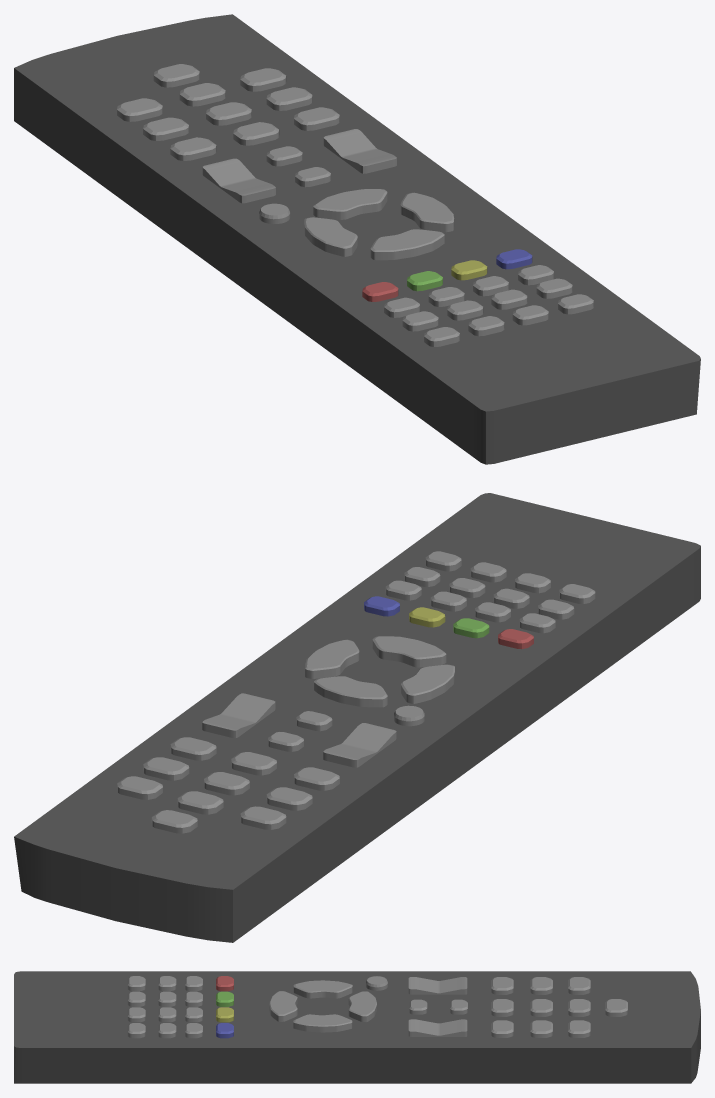
Rendered from TVRemote.fbx.
The picture shows the model from 3 angles, top to bottom: view 1: azimuth 30°, elevation 25°; view 2: azimuth 150°, elevation 25°; view 3: azimuth 270°, elevation 25°; orthographic projection. The views are drawn at different scales.
Parts seen in each view (by area): view 1: TVRemote; view 2: TVRemote; view 3: TVRemote.
Boxes of the visible parts, left/top/right/bottom form: TVRemote: left=14, top=14, right=700, bottom=464; TVRemote: left=14, top=493, right=700, bottom=942; TVRemote: left=14, top=971, right=700, bottom=1083.
Size of the model in its own units: 0.4142 by 0.1126 by 1.57.
